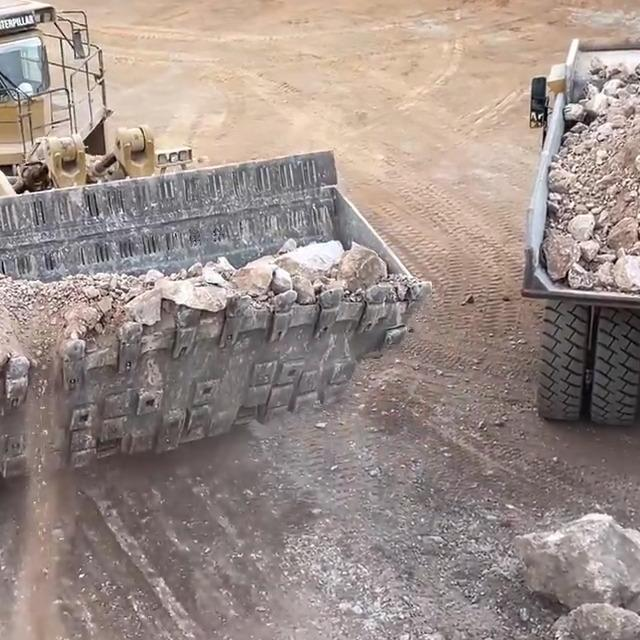dump truck: (511, 27, 640, 462)
wheel loader: (0, 0, 438, 497)
